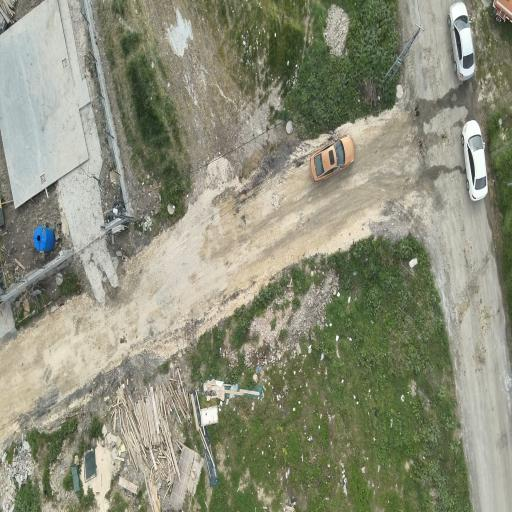car: (448, 2, 474, 81), (462, 120, 487, 201), (311, 136, 354, 181)
